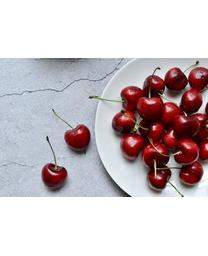cherry: (135, 95, 165, 124), (64, 124, 91, 153), (172, 139, 200, 166), (41, 162, 67, 190), (146, 164, 172, 192), (174, 116, 201, 140), (179, 161, 204, 186), (121, 133, 143, 161), (112, 106, 134, 132), (145, 144, 169, 167), (165, 67, 187, 92), (181, 90, 203, 115), (143, 74, 165, 95), (161, 100, 180, 122), (123, 87, 141, 110), (140, 121, 163, 139), (190, 67, 207, 88)
